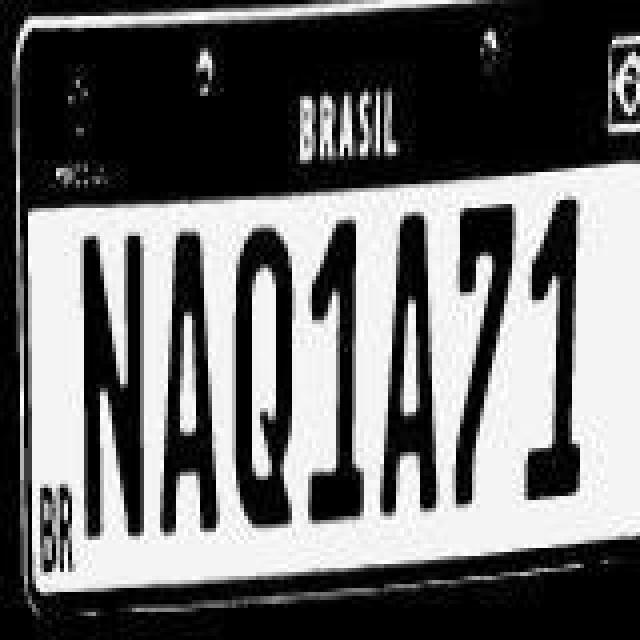1: (516, 198, 588, 498), (298, 222, 366, 526)
7: (442, 202, 518, 514)
A: (152, 226, 224, 538), (372, 212, 444, 520)
N: (74, 236, 150, 540)
Q: (228, 226, 300, 530)
